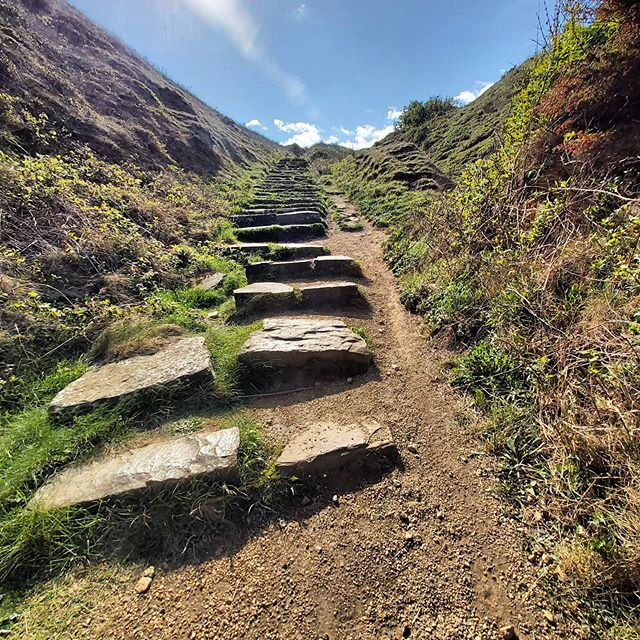sky: (83, 1, 567, 129)
vegetation: (393, 65, 640, 640)
